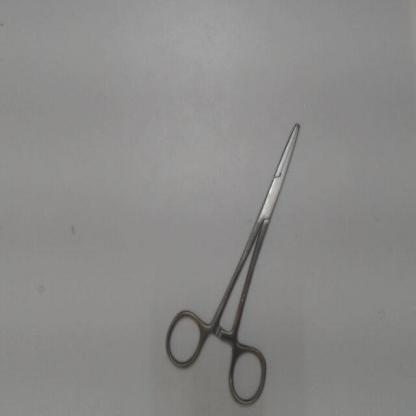Mayo Needle Holder: (161, 102, 310, 413)
